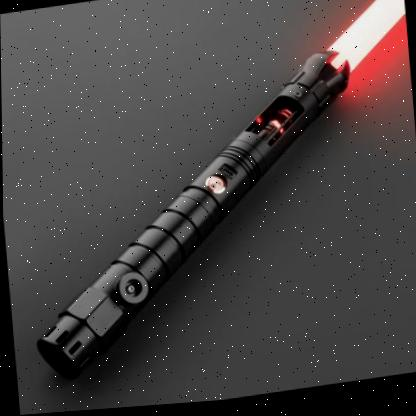sith_lightsaber: (7, 0, 416, 392)
